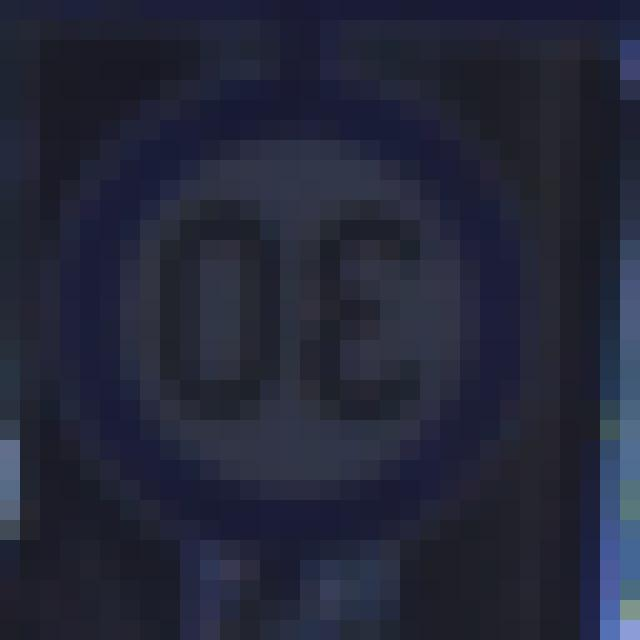SPEED LIMIT 30: (44, 95, 534, 543)
